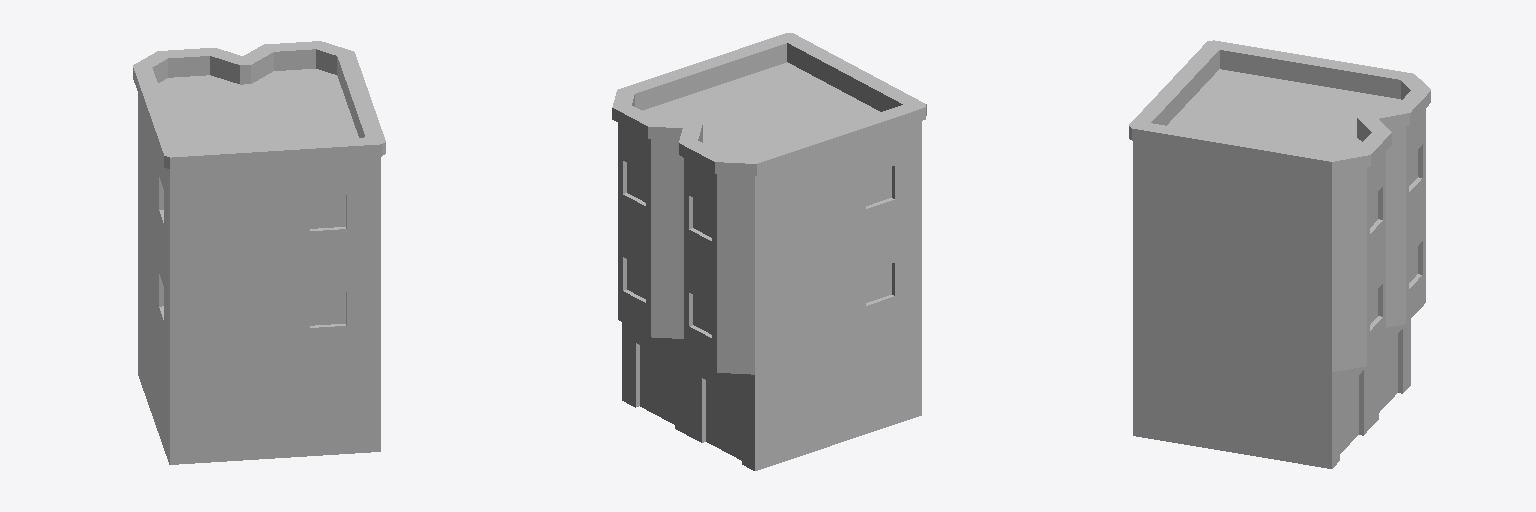
The model's file is variant_47.obj.
3 views of the same model, side by side, from view 1: azimuth 30°, elevation 25°; view 2: azimuth 150°, elevation 25°; view 3: azimuth 270°, elevation 25° (orthographic).
Parts seen in each view (by area): view 1: small_buildingA; view 2: small_buildingA; view 3: small_buildingA.
Part boxes in pixels (bbox=[...]): small_buildingA: bbox=[133, 41, 385, 464]; small_buildingA: bbox=[612, 33, 926, 470]; small_buildingA: bbox=[1129, 40, 1430, 468].
Size of the model in its own units: 1.08 by 1.28 by 1.13.